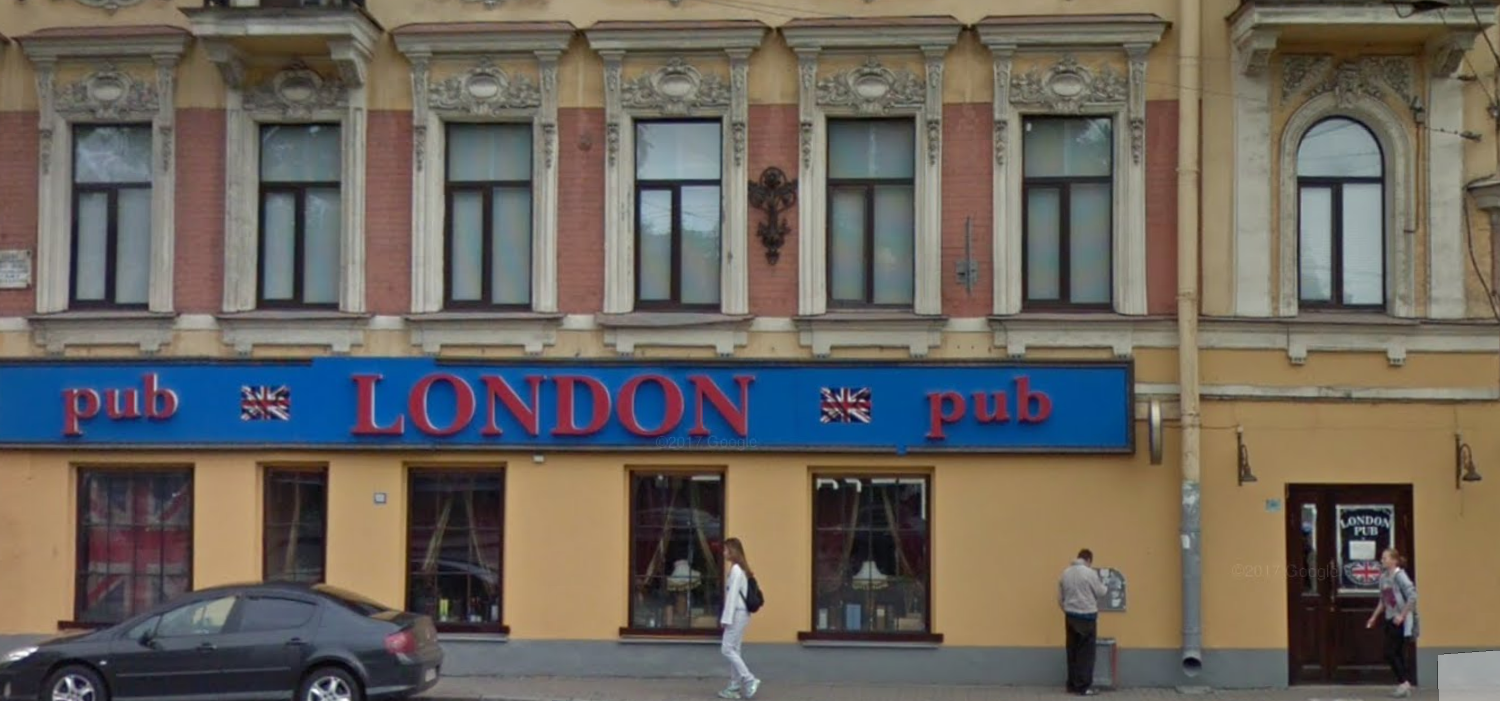door: (1291, 486, 1415, 678)
signboard: (4, 356, 1136, 457)
window: (806, 462, 931, 644), (438, 109, 534, 305), (1020, 111, 1113, 311), (827, 112, 916, 314), (254, 116, 343, 313), (636, 113, 723, 311), (76, 465, 187, 616), (626, 468, 724, 629), (404, 466, 501, 628), (66, 124, 148, 306), (1291, 173, 1385, 311), (251, 456, 324, 579)
